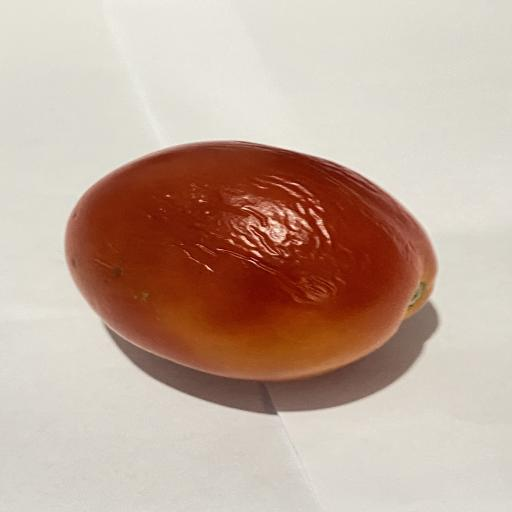spoiled: (66, 141, 436, 380)
